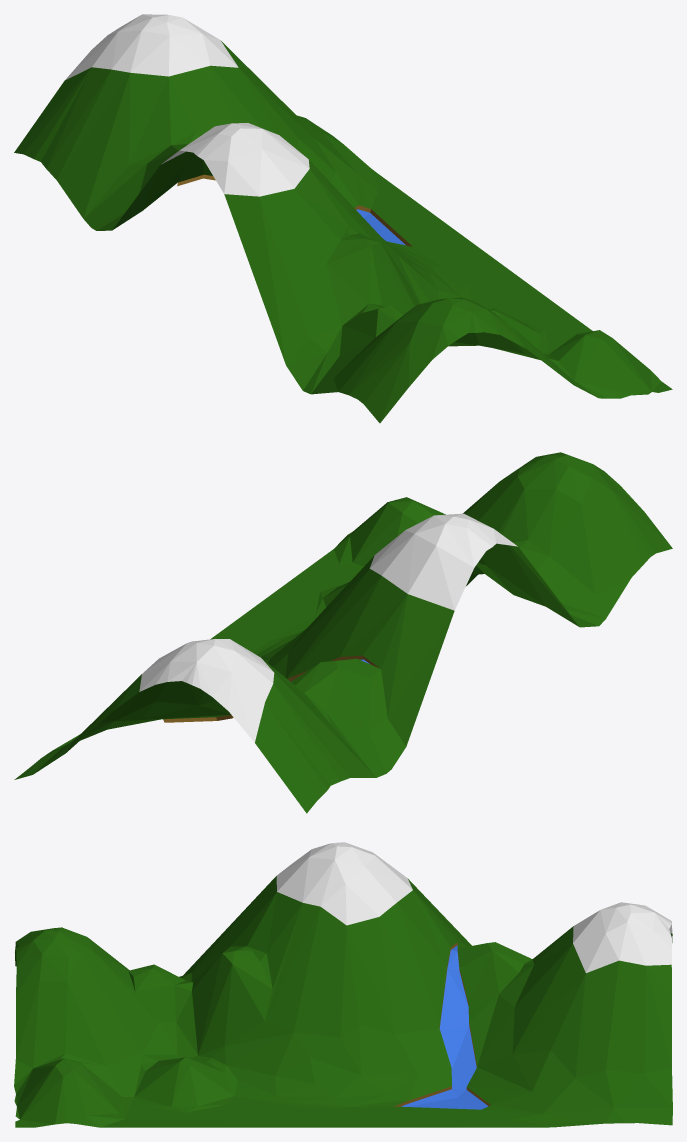
Rendered from Mountain04.fbx.
The picture shows the model from 3 angles, top to bottom: view 1: azimuth 30°, elevation 25°; view 2: azimuth 150°, elevation 25°; view 3: azimuth 270°, elevation 25°; orthographic projection. The views are drawn at different scales.
Visible parts, largest first — view 1: Ground02; view 2: Ground02; view 3: Ground02.
Part boxes in pixels (<box>): Ground02: <box>14,14,672,423</box>; Ground02: <box>14,452,672,813</box>; Ground02: <box>14,842,672,1127</box>.
Size of the model in its own units: 60.26 by 38.08 by 130.
